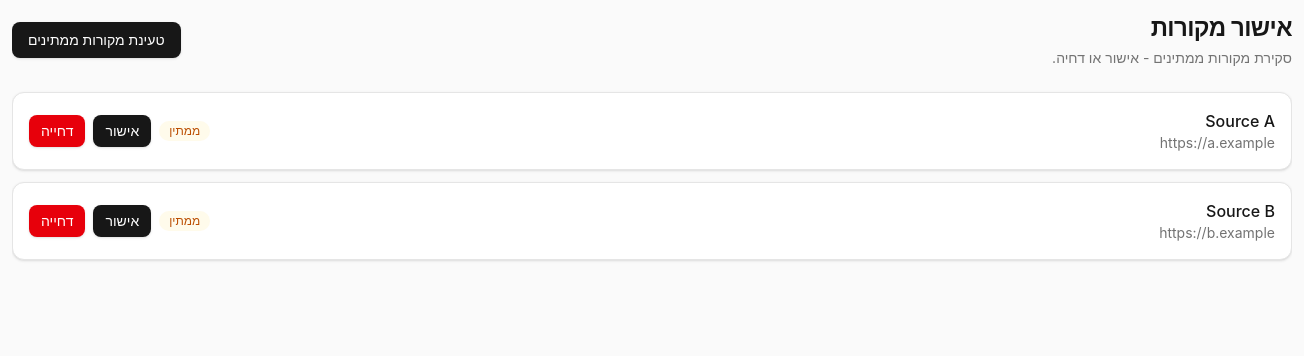
Test case: AdminView - unhappy path / edge cases › shows an action error and keeps the row when approving fails, without touching other rows
Click the button "אישור" in the row of "https://a.example" at x=122, y=131, box 93,115 -> 151,147
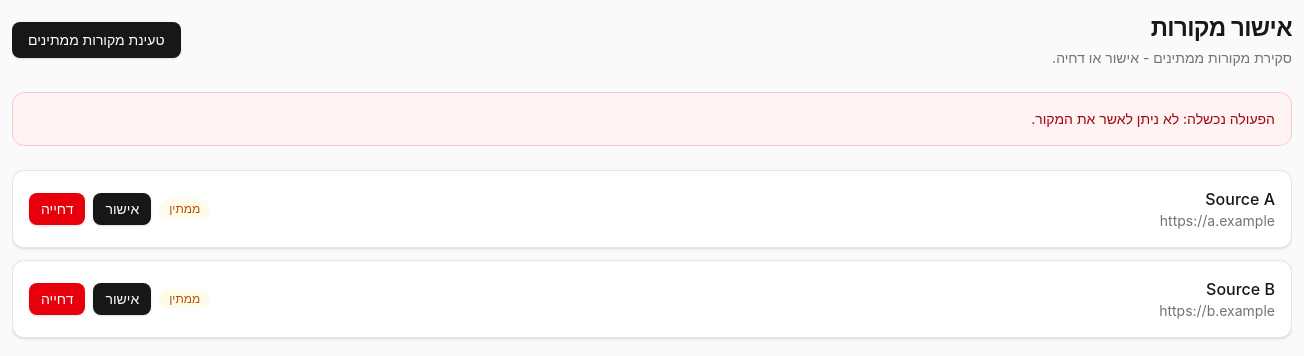
Check: the number of list items is 2, box 12,170 -> 1292,248; 12,260 -> 1292,338
Check: the text "הפעולה נכשלה" is shown, box 1031,110 -> 1275,127
Check: the text "לאשר" is shown, box 1031,110 -> 1275,127
